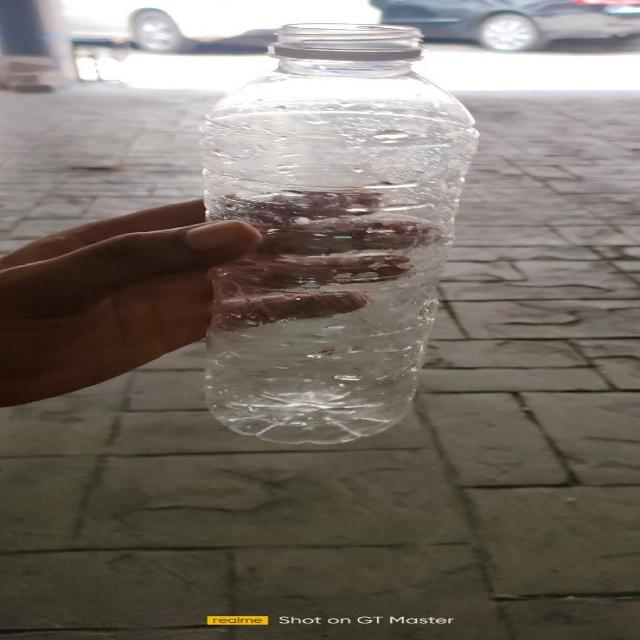plastic_bottle: (195, 24, 480, 445)
